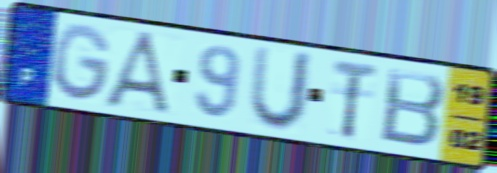9: (192, 44, 244, 121)
A: (100, 28, 177, 119)
B: (378, 65, 448, 151)
G: (51, 21, 114, 105)
T: (330, 57, 380, 142)
U: (246, 43, 317, 135)
